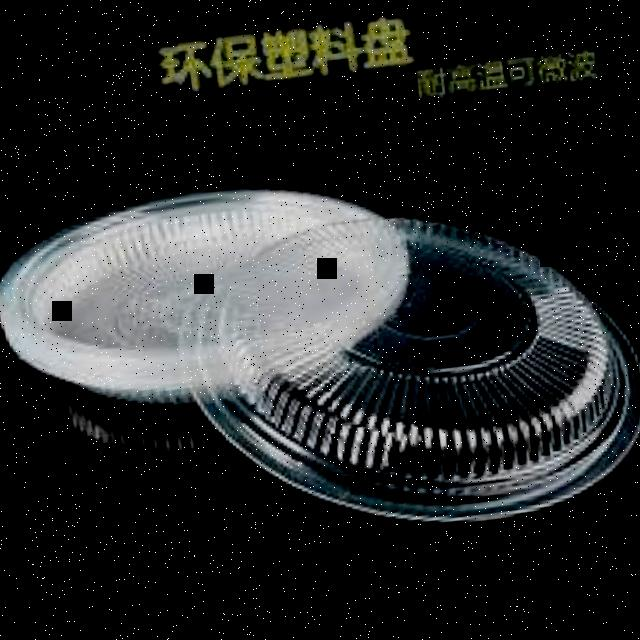plastic_box: (166, 187, 640, 554)
